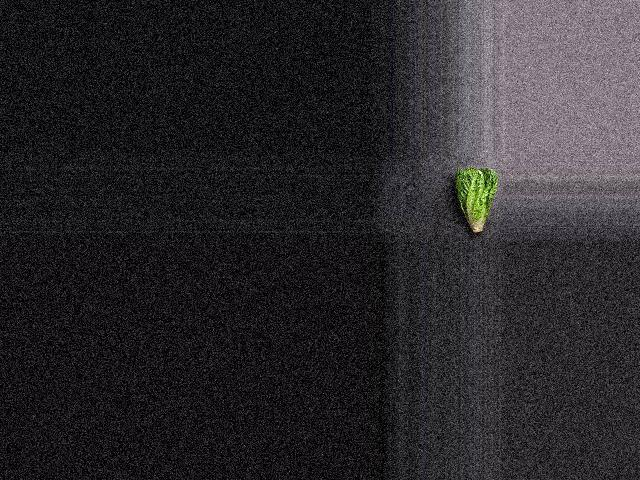lettuce: (453, 167, 499, 237)
